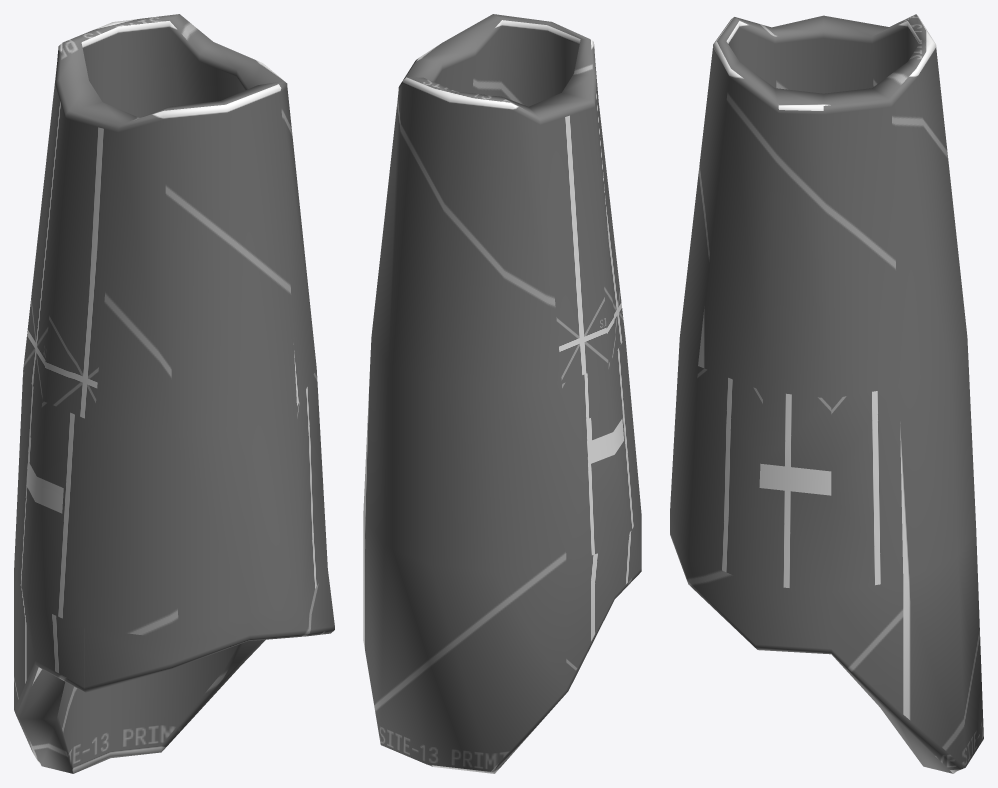
File: Forearm-Soldier.obj
The picture shows the model from 3 angles, left to right: view 1: azimuth 30°, elevation 25°; view 2: azimuth 150°, elevation 25°; view 3: azimuth 270°, elevation 25°; orthographic projection. The views are drawn at different scales.
Parts seen in each view (by area): view 1: Forearm-Soldier; view 2: Forearm-Soldier; view 3: Forearm-Soldier.
Part boxes in pixels (left/top/right/bottom): Forearm-Soldier: left=14, top=14, right=334, bottom=773; Forearm-Soldier: left=363, top=14, right=641, bottom=773; Forearm-Soldier: left=670, top=14, right=983, bottom=773.
Bounding box in the file's own units: 0.785 × 2 × 0.8074.
